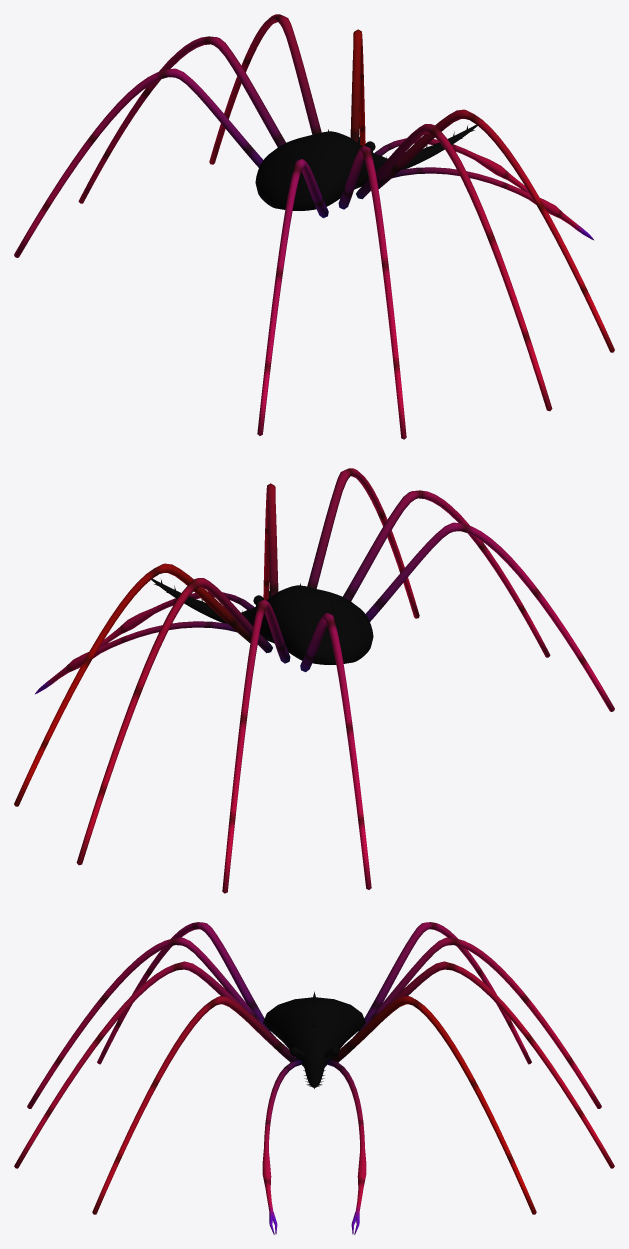
Rendered from arrow_crab.glb.
3 views of the same model, one above another, from view 1: azimuth 30°, elevation 25°; view 2: azimuth 150°, elevation 25°; view 3: azimuth 270°, elevation 25° (orthographic). The views are drawn at different scales.
Parts seen in each view (by area): view 1: Legs, Body, Claws; view 2: Legs, Body, Claws; view 3: Legs, Body, Claws.
Part boxes in pixels (box(x1,y1,x2,y2)): Legs: box(14, 14, 614, 439); Body: box(255, 124, 477, 210); Claws: box(374, 137, 593, 240); Legs: box(14, 468, 614, 893); Body: box(151, 578, 373, 664); Claws: box(35, 591, 254, 694); Legs: box(14, 922, 614, 1214); Body: box(263, 991, 365, 1088); Claws: box(262, 1059, 366, 1234).
Bounding box in the file's own units: 2.07 × 1.01 × 2.8.
Materials: 1 (1 with a texture image).
